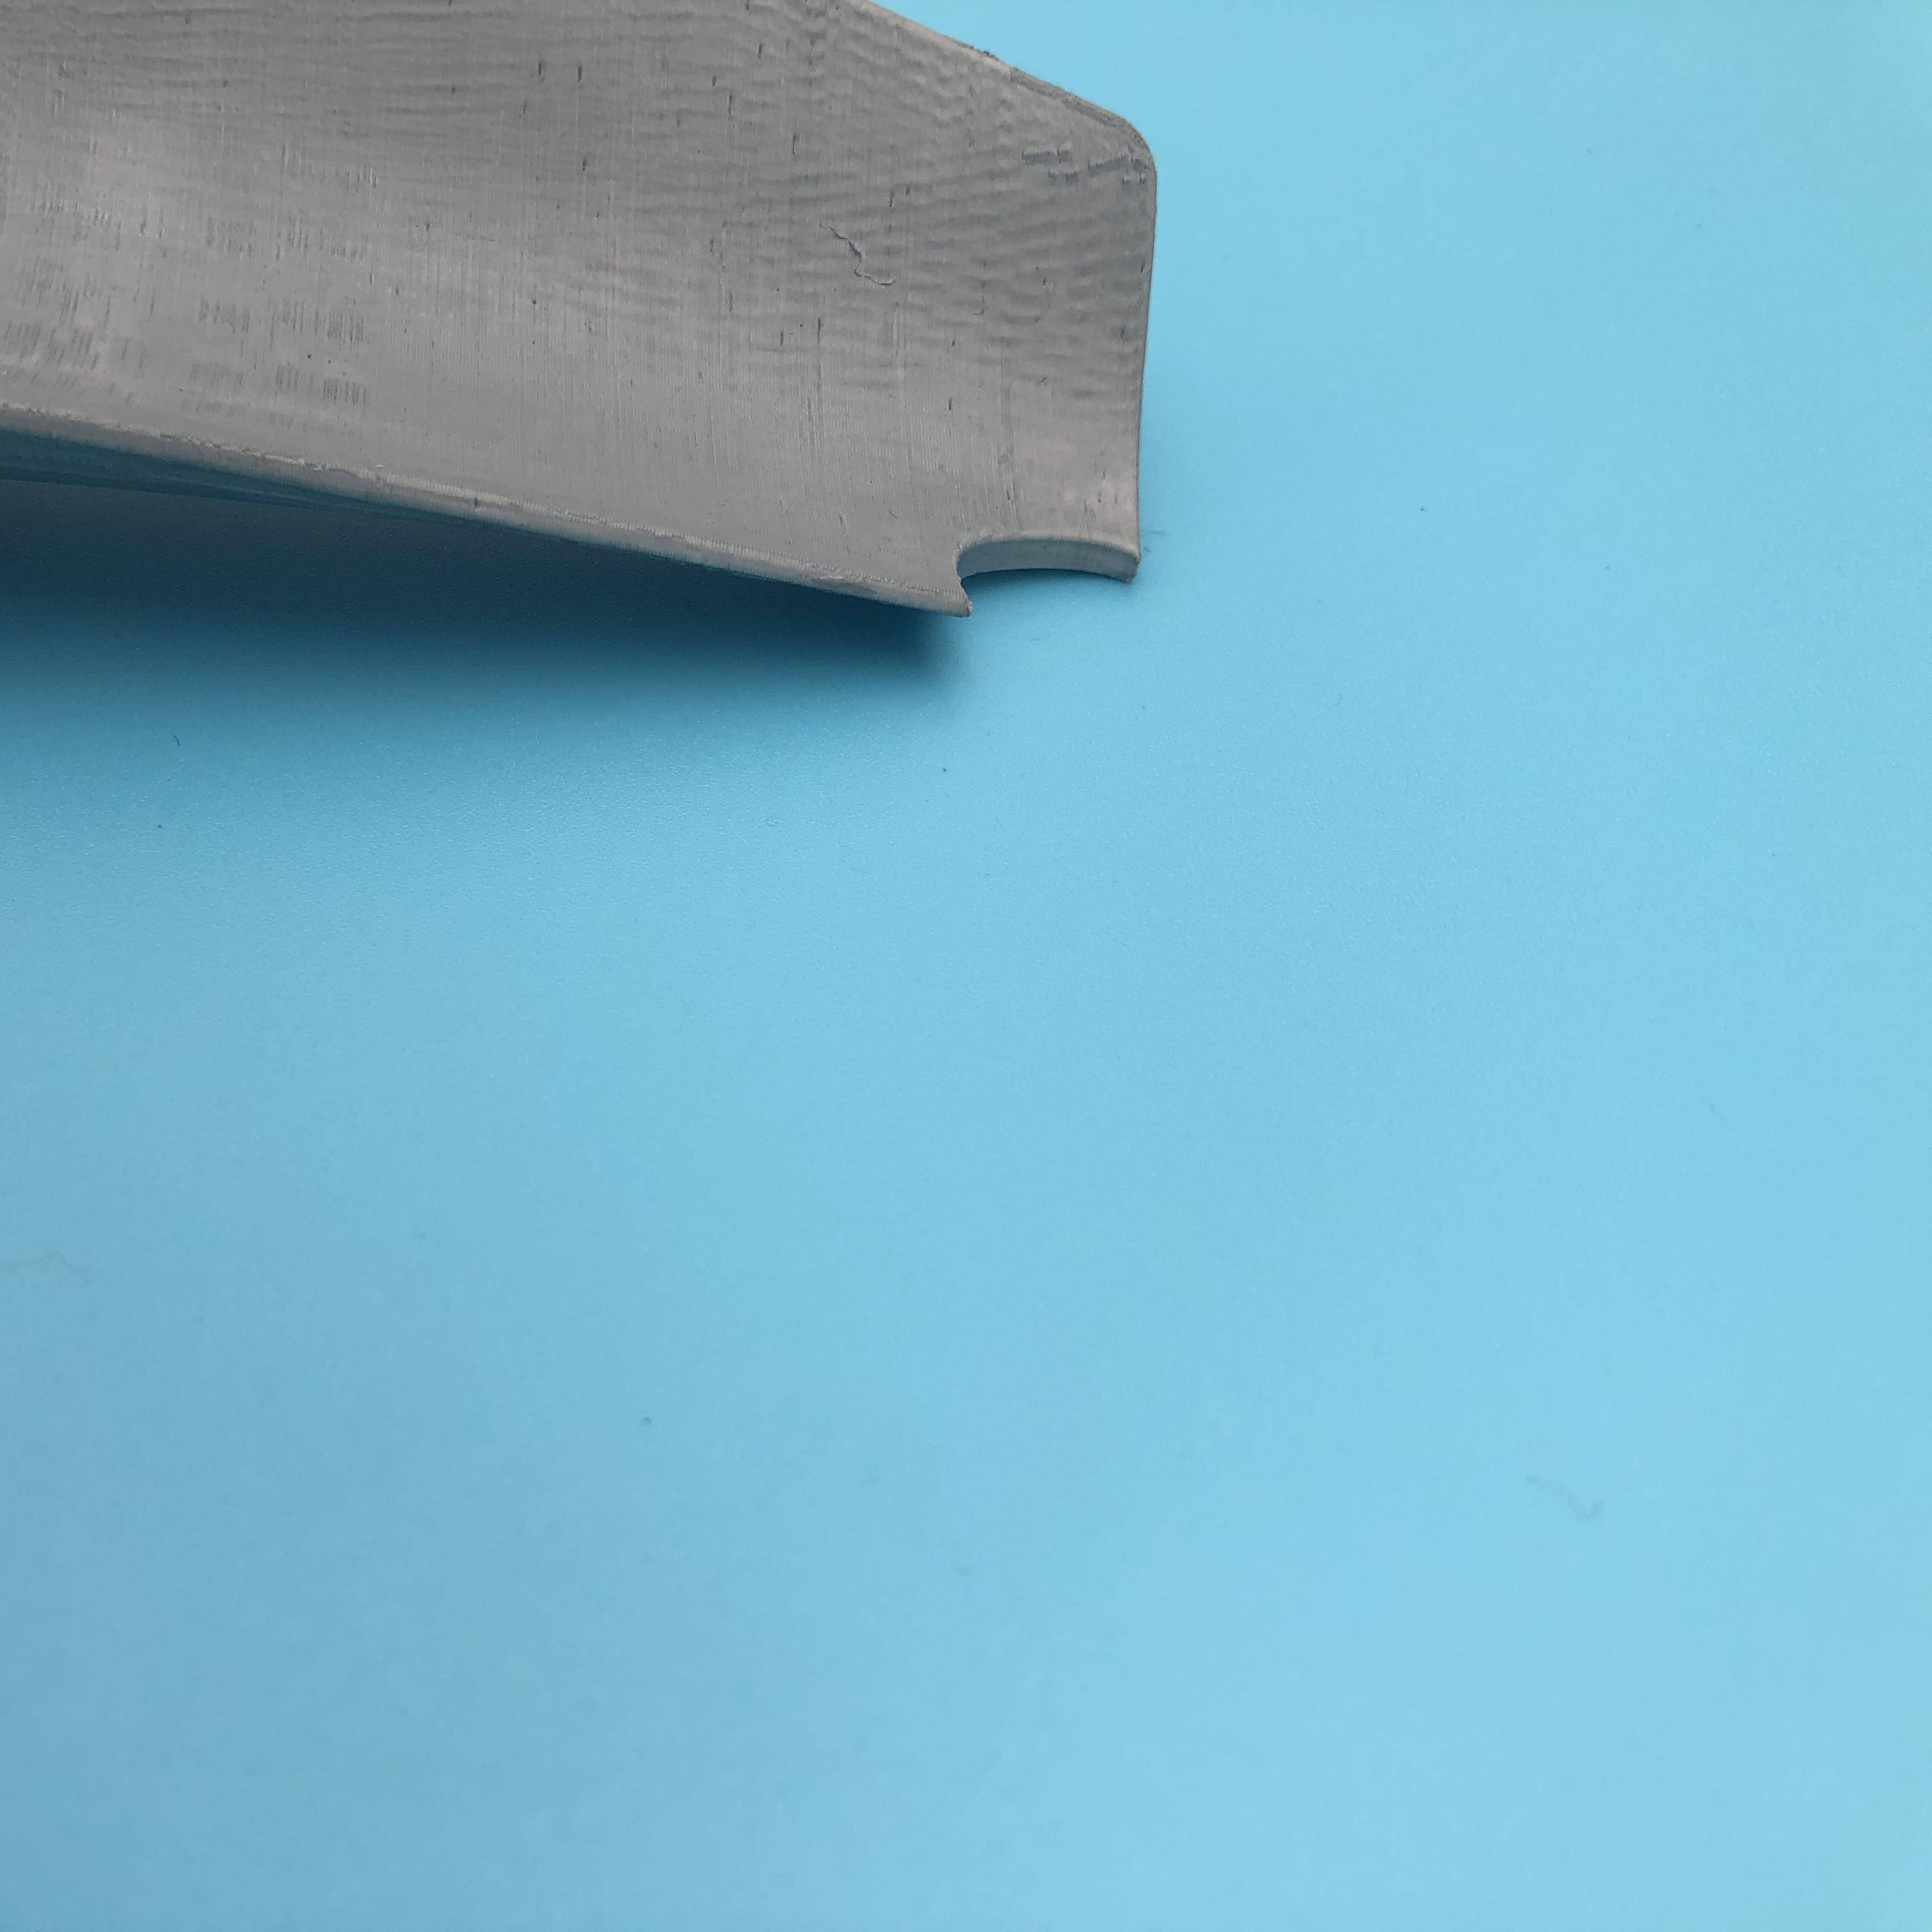fracture: (950, 531, 1125, 623)
